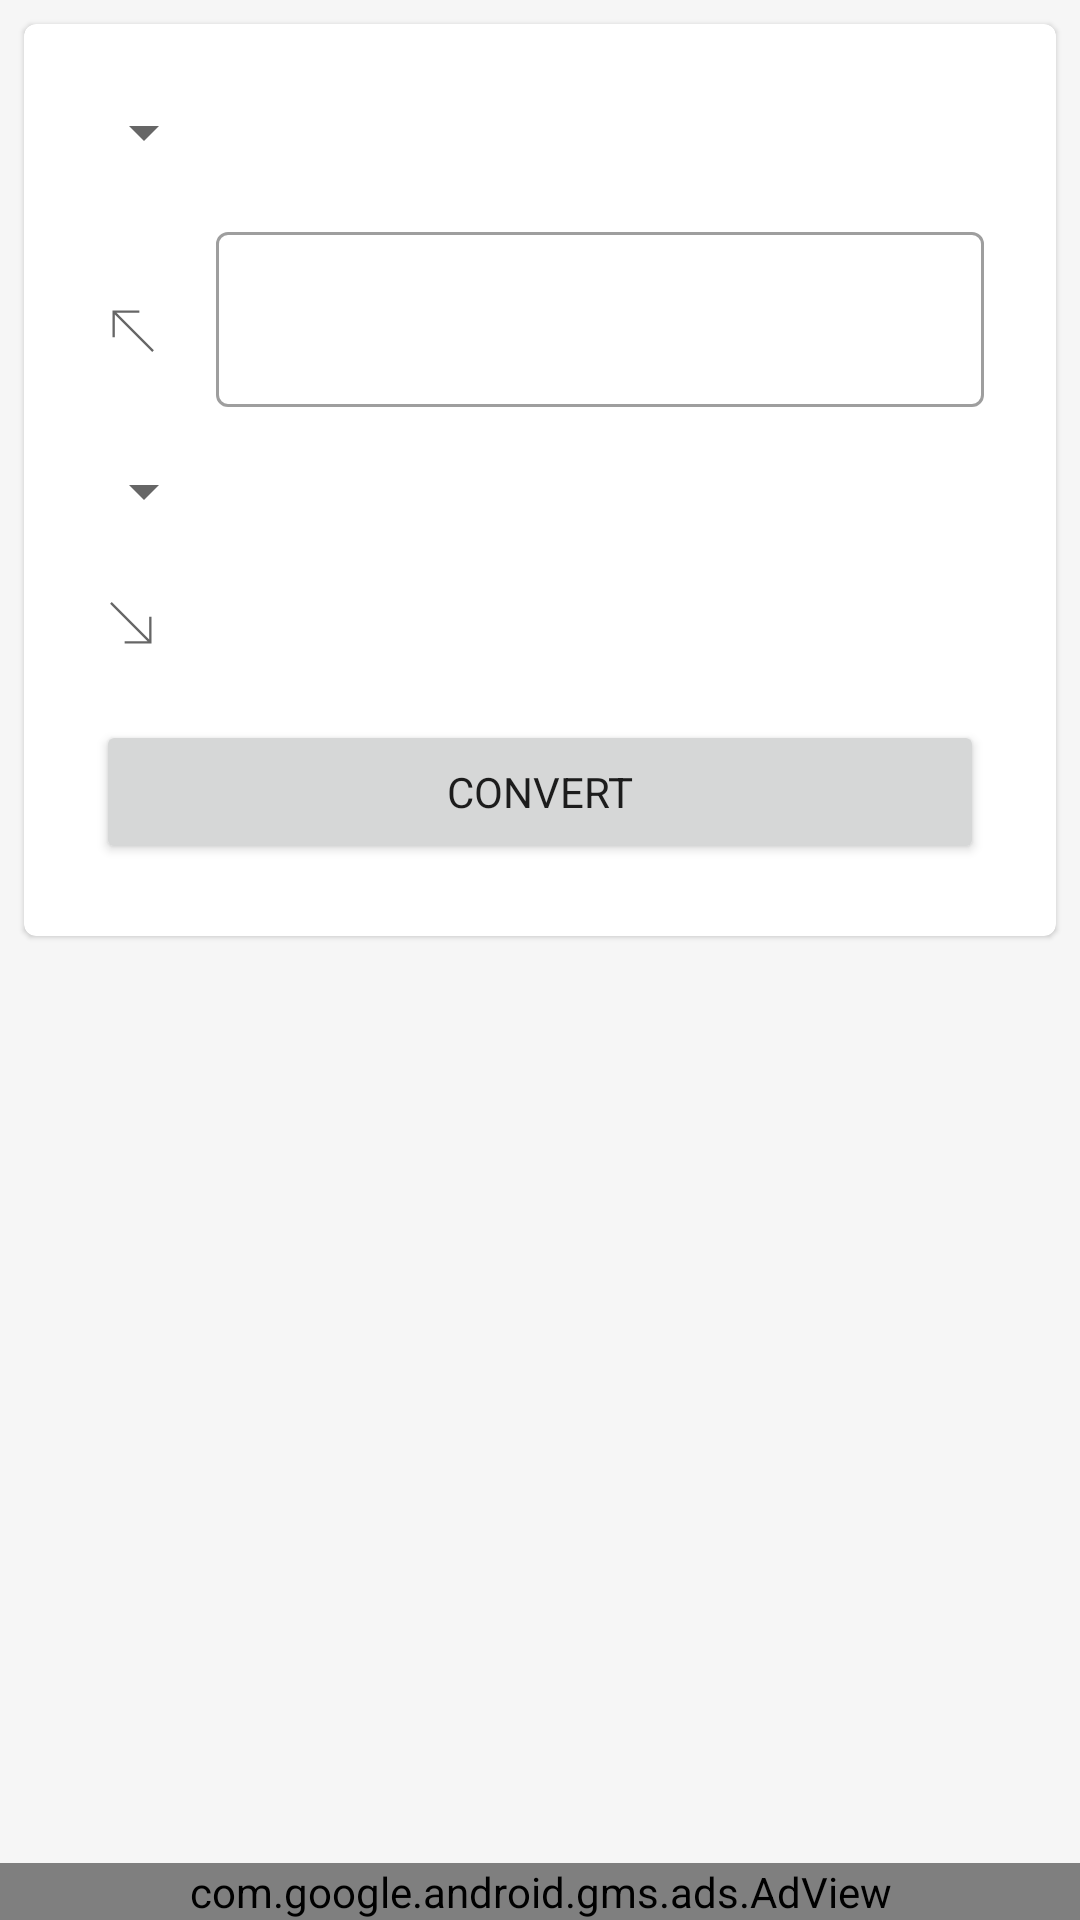

Screen size 1080*1920. Icon name, then its box in pixels as bbox(x1, y1, x2, y2):
from: bbox(112, 310, 154, 352)
